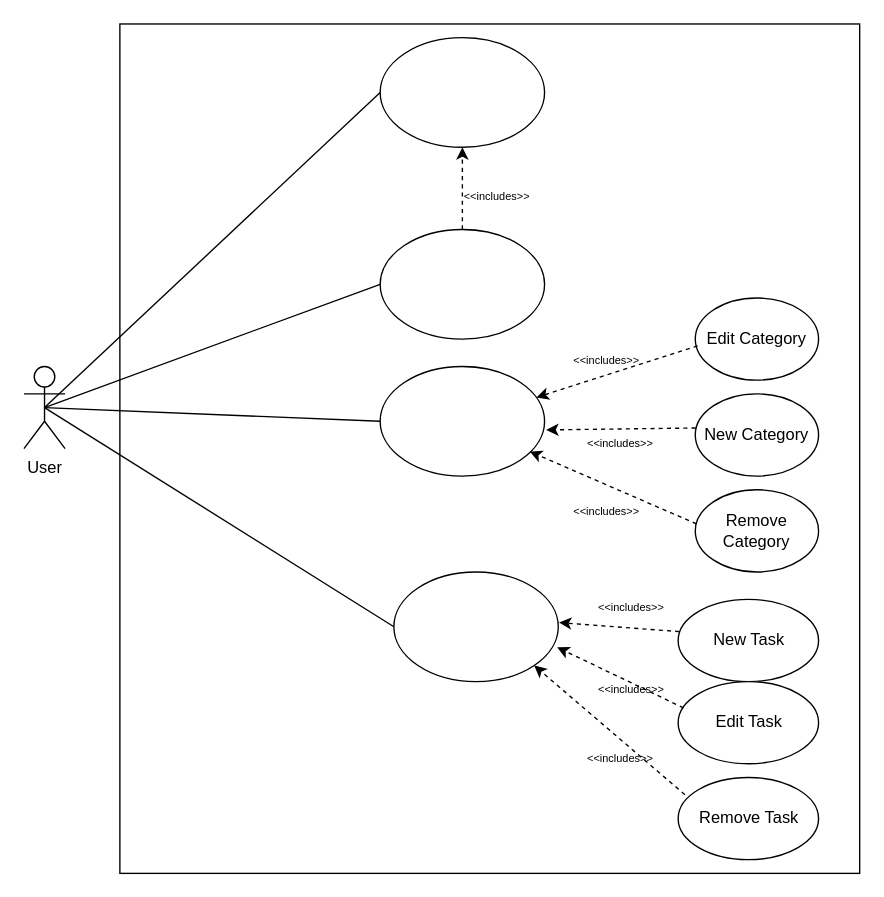
Image size: 884x897. Some labels were removed from this diagram. Here are the shapes that lost their labels. From the top down, the centre of each, then its label:
At (x=462, y=91): "Show compilation".
At (x=462, y=283): "Show home page".
At (x=462, y=420): "Show category list".
At (x=475, y=626): "Show task list".
